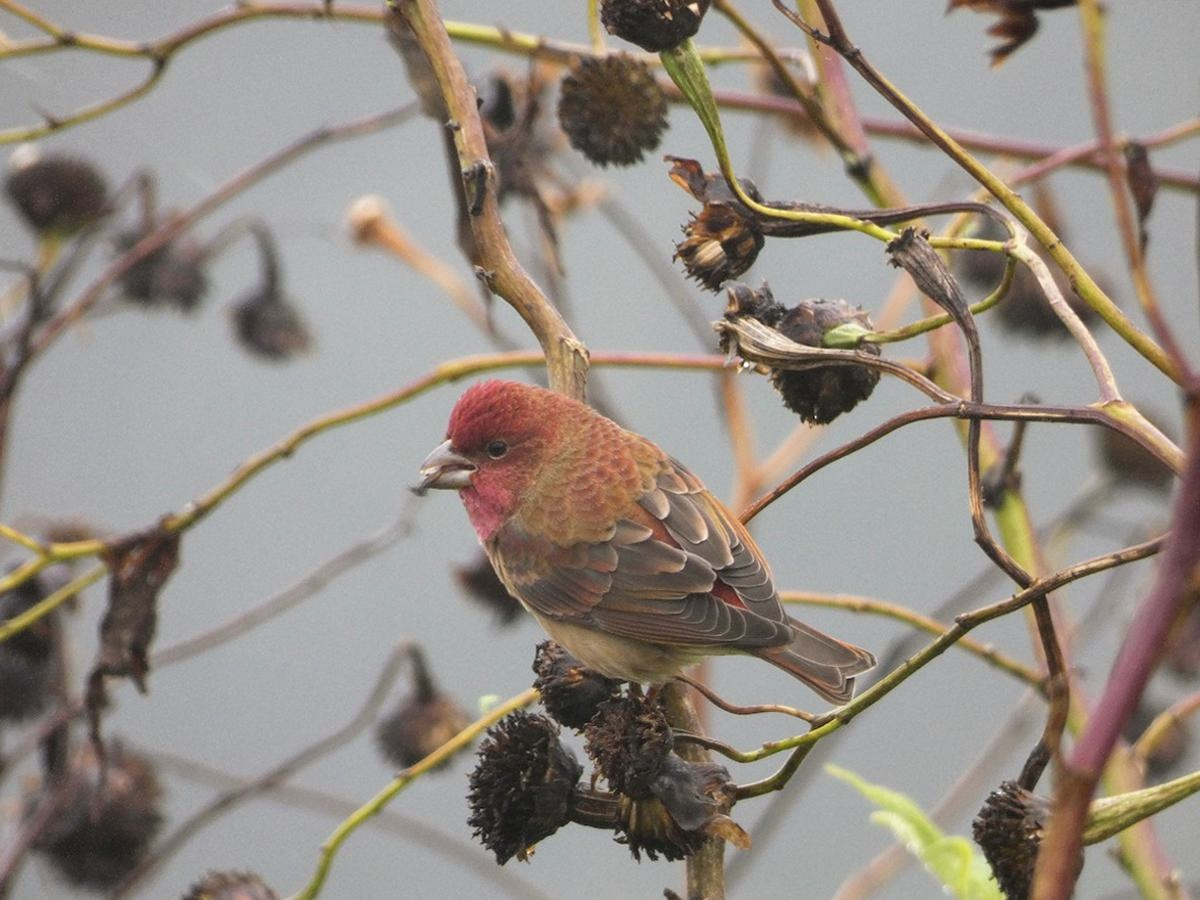rosefinch: (418, 383, 815, 730)
